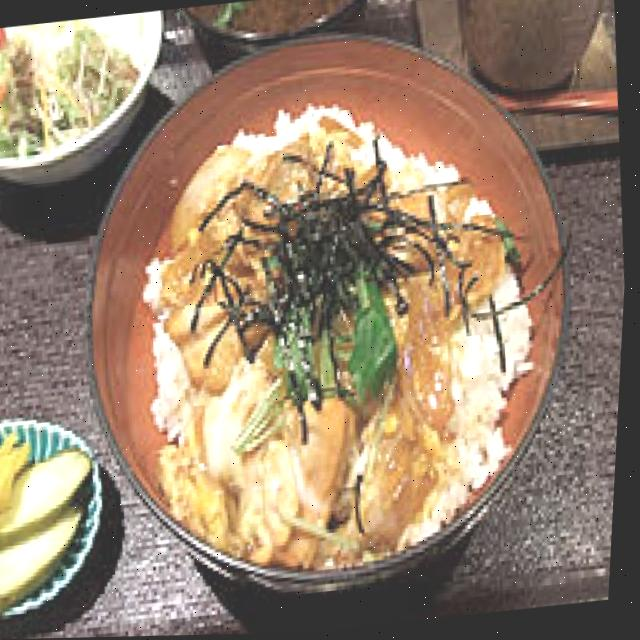米饭主食: (50, 3, 612, 639)
